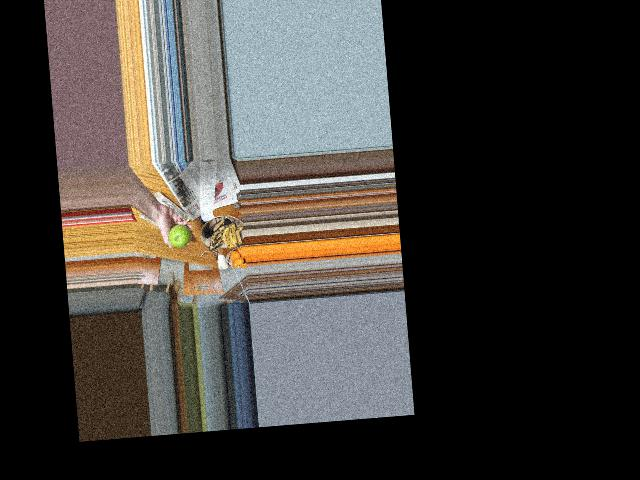apple: (167, 221, 192, 251)
